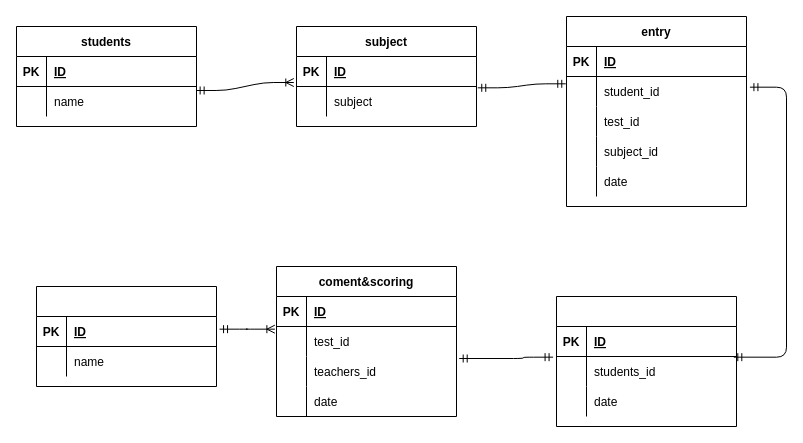
The diagram is 803 pixels wide and 443 high, and some of its shapes have lost their labels. Here are the shapes that lost their labels. From the top down, the box of each, then its label:
(36, 286, 216, 386): teachers
(556, 296, 736, 426): tests
